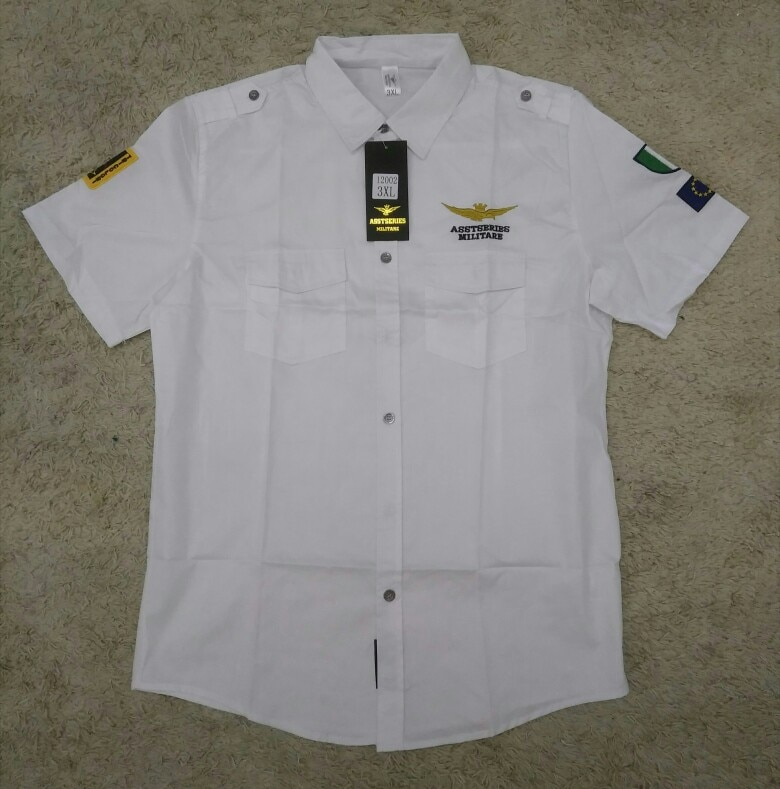shirts: (24, 31, 751, 729)
